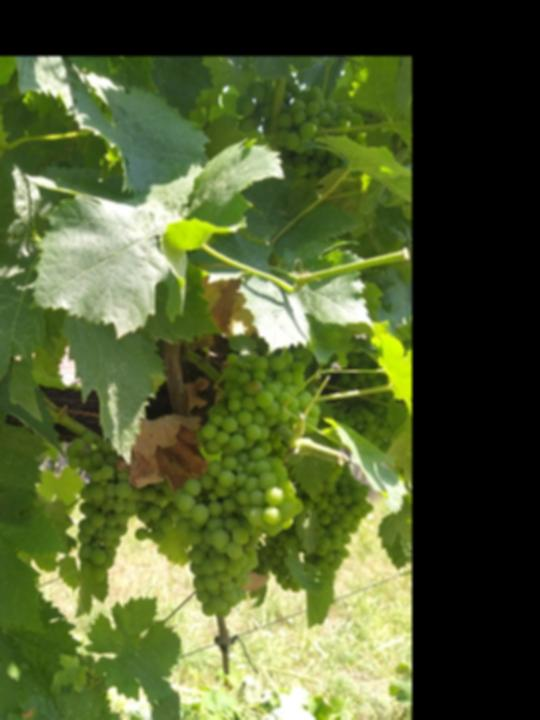grape: (171, 445, 306, 619), (64, 428, 163, 584), (194, 348, 315, 456)
